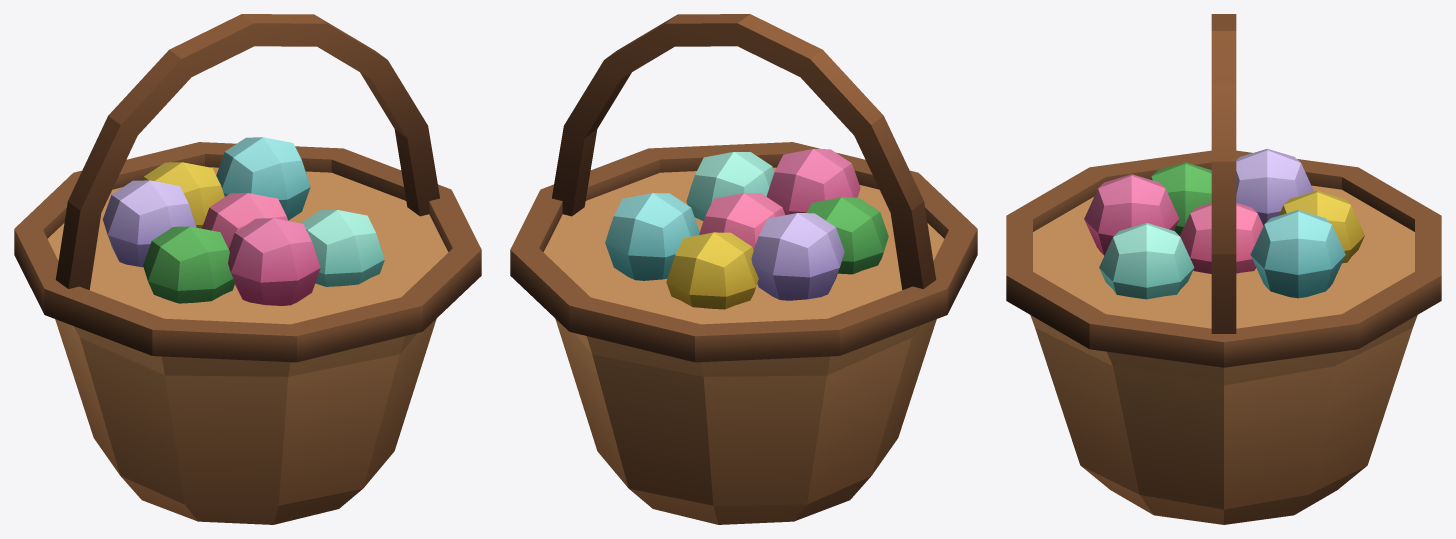
The model's file is PlayGround_Kit_Candy_Basket.fbx.
The picture shows the model from 3 angles, left to right: view 1: azimuth 30°, elevation 25°; view 2: azimuth 150°, elevation 25°; view 3: azimuth 270°, elevation 25°; orthographic projection. The views are drawn at different scales.
Parts seen in each view (by area): view 1: PlayGround_Kit_Candy_Basket; view 2: PlayGround_Kit_Candy_Basket; view 3: PlayGround_Kit_Candy_Basket.
Part boxes in pixels (<box>): PlayGround_Kit_Candy_Basket: <box>14,14,481,524</box>; PlayGround_Kit_Candy_Basket: <box>510,14,977,524</box>; PlayGround_Kit_Candy_Basket: <box>1006,14,1441,524</box>.
Size of the model in its own units: 0.5754 by 0.6156 by 0.5472.
